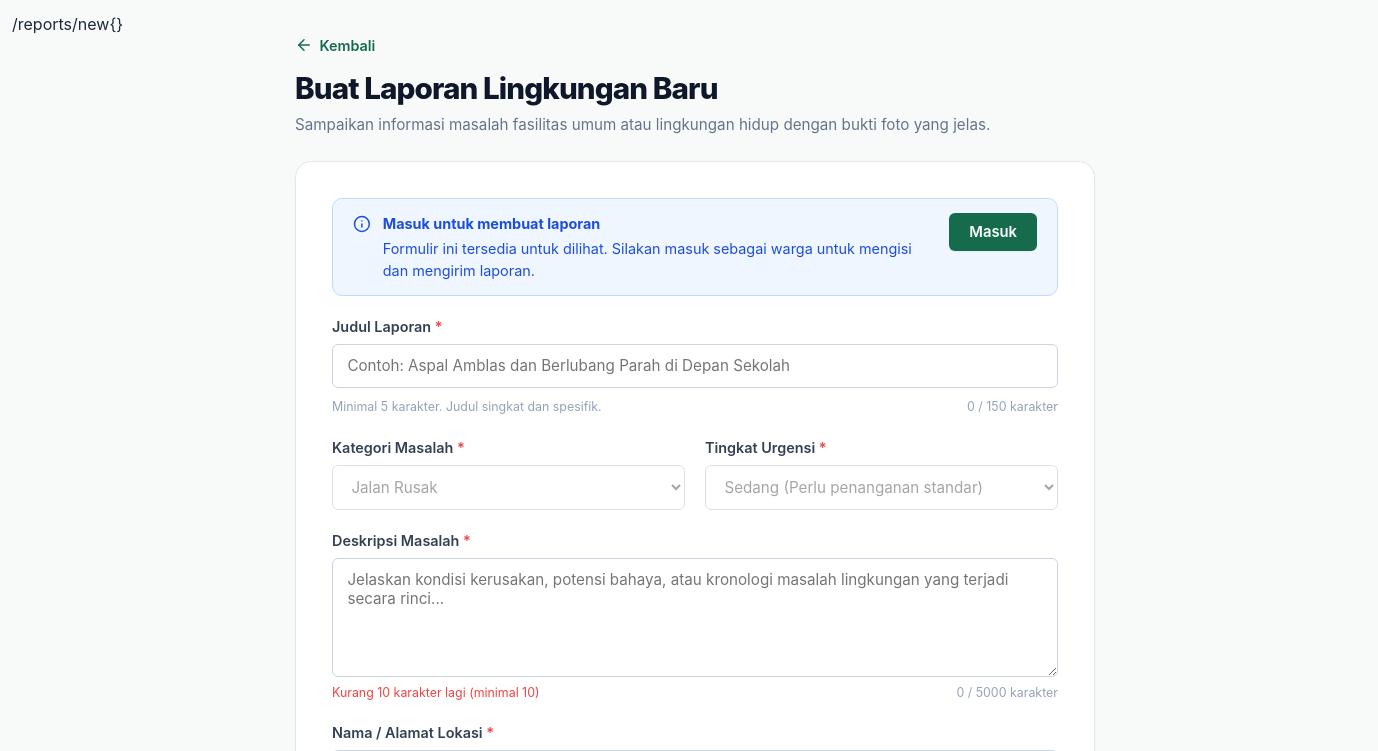
CreateReportPage › shows a read-only report form to guests with a login link back to this route
This screenshot has width=1378, height=751.
Expected: the heading "Buat Laporan Lingkungan Baru" is shown, left=295, top=70, right=718, bottom=106
Expected: the text "Masuk untuk membuat laporan" is shown, left=383, top=215, right=600, bottom=232
Click the link "Masuk". click: click(993, 232)
box: left=949, top=213, right=1037, bottom=251
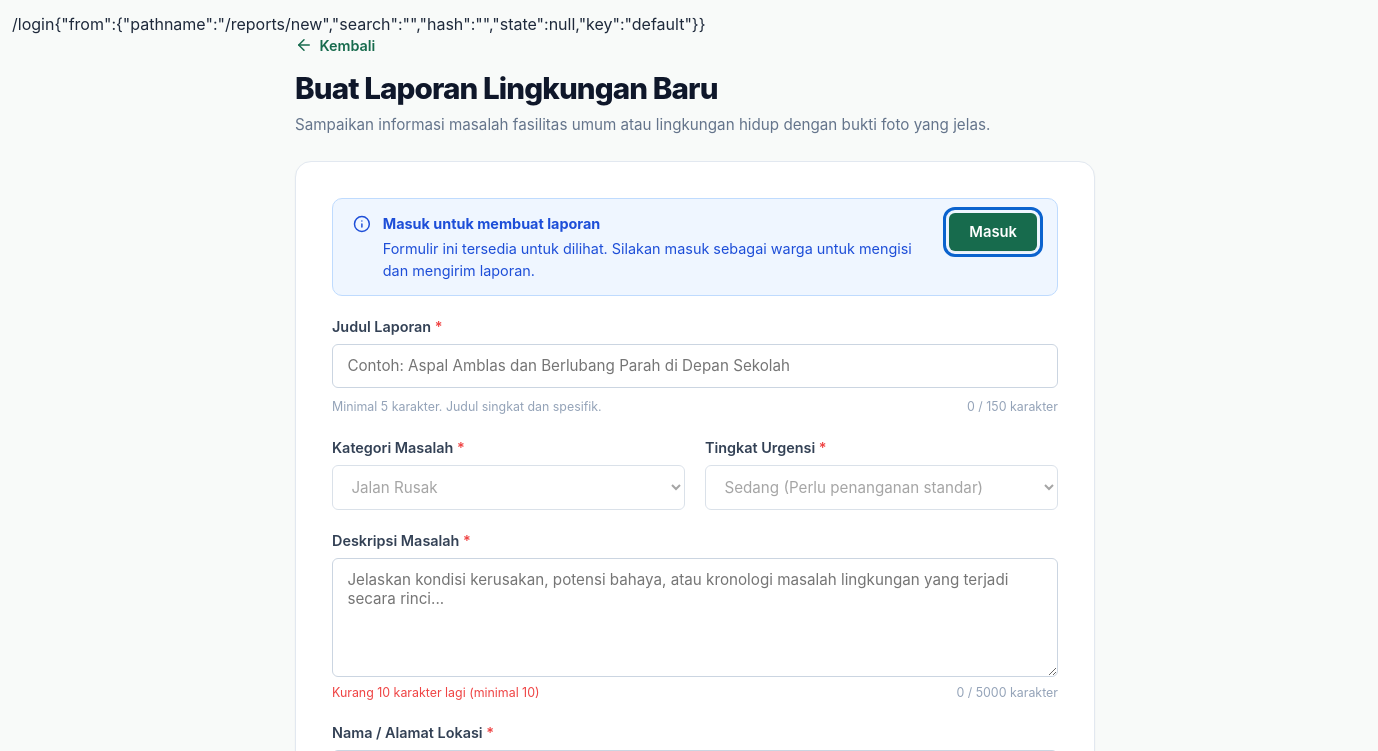
Expected: the text with test id "location" shows "/login", left=12, top=14, right=54, bottom=34
Expected: the text with test id "location" shows "\"/reports/new\"", left=54, top=14, right=706, bottom=34
